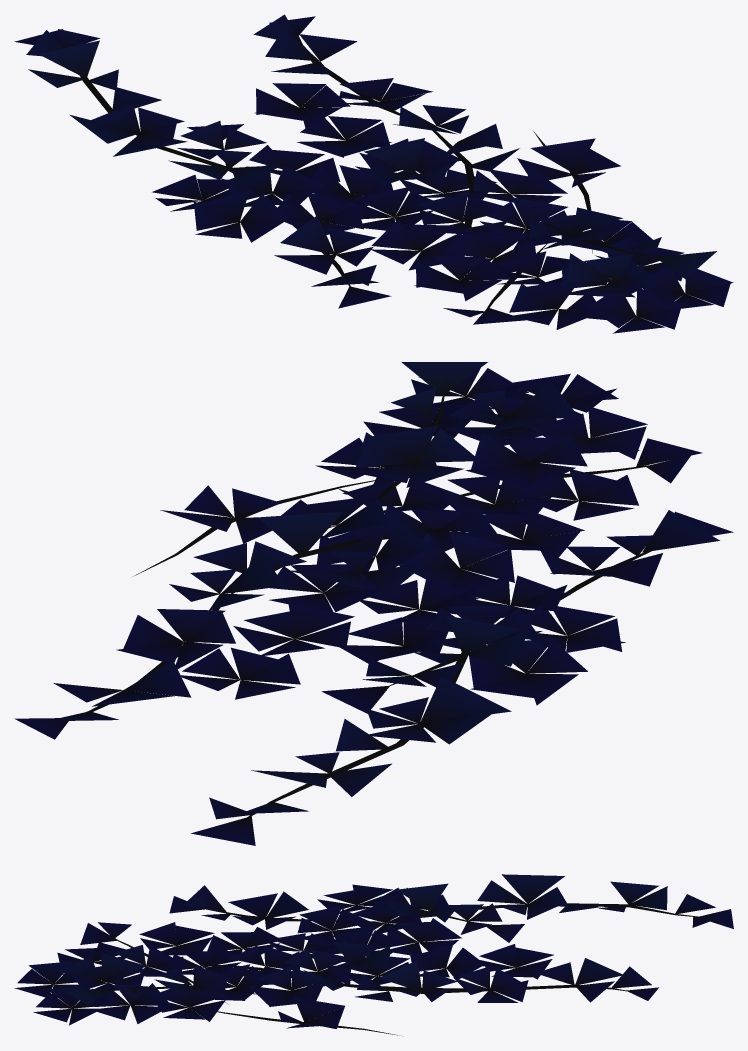
The model's file is TSI_Plant_15A.fbx.
3 renders of one model, top to bottom at view 1: azimuth 30°, elevation 25°; view 2: azimuth 150°, elevation 25°; view 3: azimuth 270°, elevation 25°, orthographic. The views are drawn at different scales.
Visible parts, largest first — view 1: TSI_Plant_15A_LOD0; view 2: TSI_Plant_15A_LOD0; view 3: TSI_Plant_15A_LOD0.
Part boxes in pixels (box(x1,y1,x2,y2)): TSI_Plant_15A_LOD0: box(14, 14, 733, 333); TSI_Plant_15A_LOD0: box(14, 362, 733, 845); TSI_Plant_15A_LOD0: box(14, 874, 733, 1035).
Bounding box in the file's own units: 273 × 26.62 × 558.
